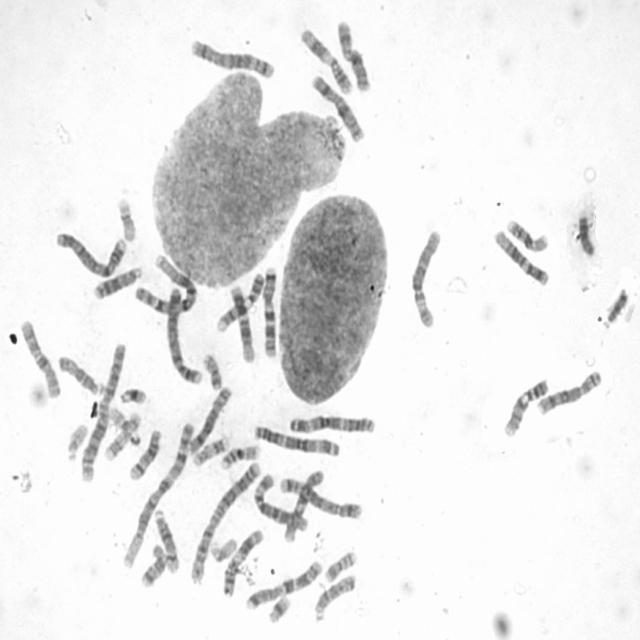A1: (118, 417, 196, 570), (130, 248, 200, 316)
A2: (185, 455, 262, 584), (76, 337, 127, 484)
A3: (250, 418, 342, 458), (284, 408, 378, 436)
B4: (161, 280, 204, 386), (51, 225, 128, 278)
B5: (186, 32, 277, 80), (276, 471, 364, 520)
C10: (15, 313, 62, 399), (279, 464, 325, 543)
C11: (296, 21, 355, 96), (219, 524, 265, 598)
C12: (490, 223, 551, 287), (226, 278, 256, 364)
C6: (406, 222, 444, 330), (250, 468, 310, 533)
C7: (241, 554, 324, 611), (258, 260, 280, 359)
C8: (184, 380, 233, 457), (532, 364, 604, 416)
C9: (211, 266, 266, 334), (499, 372, 550, 439)
D13: (89, 260, 144, 300), (574, 210, 601, 262)
D14: (149, 502, 181, 574), (125, 423, 163, 481)
D15: (310, 569, 358, 623), (54, 349, 104, 397)
E16: (502, 213, 550, 253), (216, 438, 261, 471)
E17: (99, 405, 143, 462), (188, 429, 231, 468)
E18: (136, 539, 168, 588), (606, 288, 630, 326)
F19: (113, 192, 138, 242), (206, 532, 239, 563)
F20: (321, 544, 358, 584), (198, 347, 224, 391)
G21: (264, 589, 292, 625), (116, 381, 148, 406)
G22: (105, 401, 142, 445), (62, 418, 89, 462)
X: (307, 68, 367, 144), (332, 13, 372, 93)
